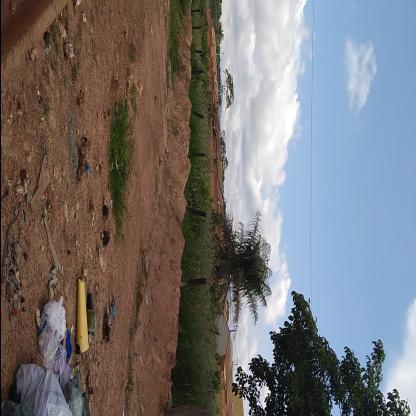lixo: (12, 274, 94, 416)
